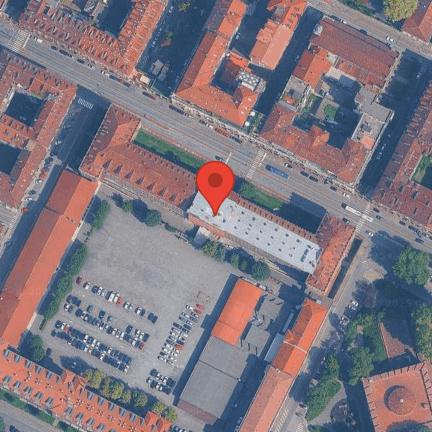area_open: (47, 212, 235, 399), (299, 236, 395, 398), (10, 91, 109, 232), (138, 0, 214, 94), (293, 73, 360, 150), (382, 52, 430, 116), (304, 385, 367, 431), (0, 397, 65, 432), (6, 84, 46, 126), (1, 0, 27, 22), (413, 158, 431, 189), (0, 148, 17, 172), (251, 65, 272, 82)
built: (80, 103, 356, 294), (0, 170, 174, 432), (258, 16, 405, 190), (168, 278, 333, 432), (0, 51, 79, 210), (171, 1, 265, 130), (17, 0, 168, 79), (374, 78, 432, 231), (362, 319, 432, 432), (251, 0, 312, 72), (403, 0, 432, 40)
vegetation_low: (22, 187, 276, 421), (137, 130, 320, 233), (306, 314, 385, 420), (377, 277, 432, 358), (0, 390, 83, 432), (345, 0, 418, 30), (386, 247, 432, 292), (323, 102, 352, 122), (242, 113, 266, 137), (298, 98, 317, 123)
